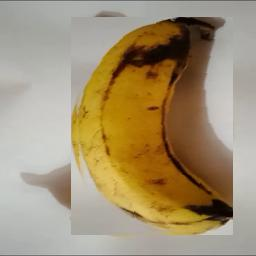Banana Semifresh: (71, 17, 233, 235)
